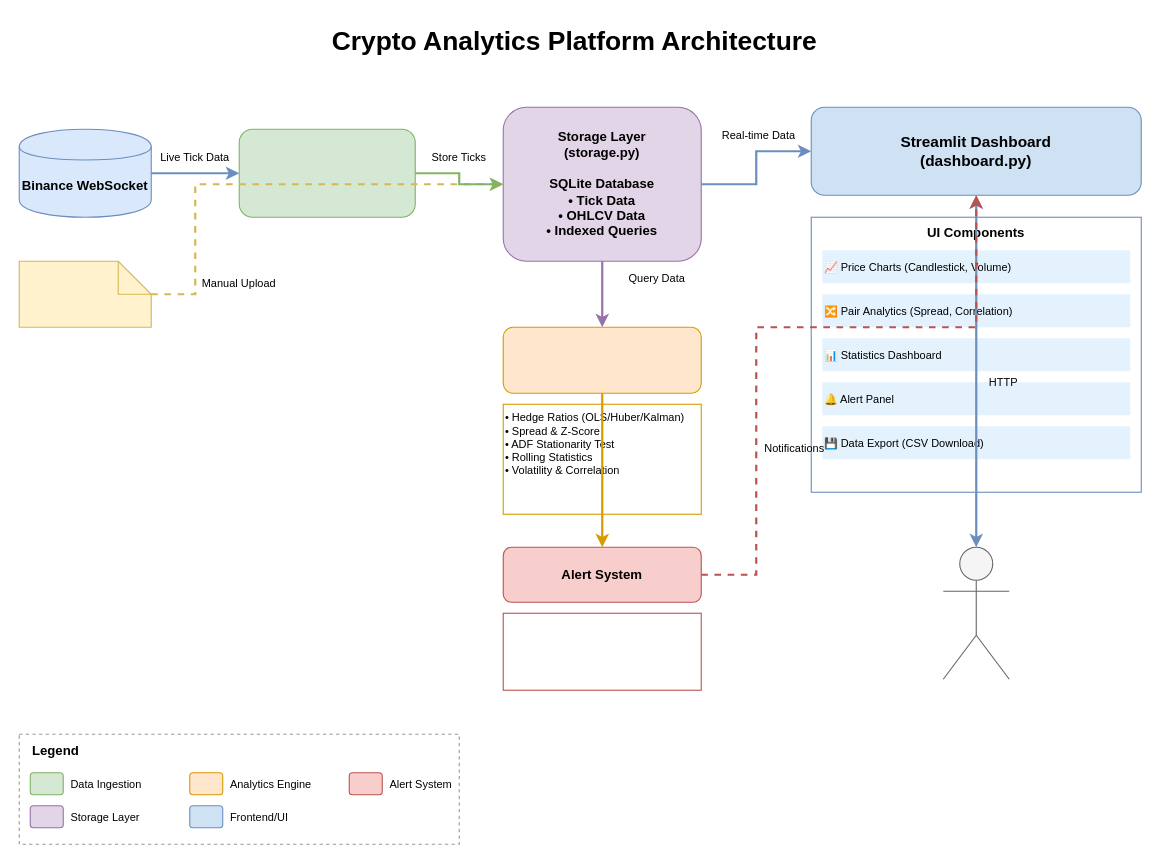
This 1161x864 diagram has some shape labels left out. Each missing label, with the centre of its shape:
"Analytics Engine (analytics.py)" belongs at (601,359).
"CSV Upload" belongs at (84,293).
"Data Collector (data_collector.py)" belongs at (326,172).
"User Browser" belongs at (975,612).
"• Z-Score Thresholds • Price Change Alerts • Real-time Notifications" belongs at (601,651).
